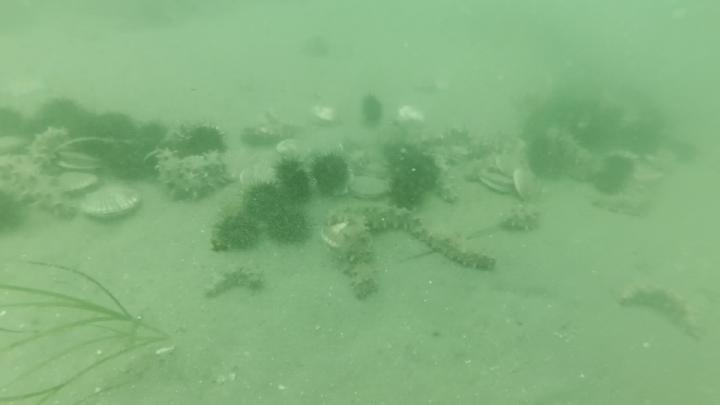echinus: (58, 109, 137, 167), (381, 140, 441, 210), (547, 123, 605, 181), (53, 129, 124, 174), (523, 131, 575, 183), (209, 207, 264, 255), (617, 113, 667, 159), (240, 178, 288, 223), (271, 154, 314, 203), (264, 204, 313, 247), (309, 151, 353, 198), (175, 122, 228, 160), (37, 95, 86, 133), (91, 109, 139, 146), (1, 182, 31, 239), (133, 118, 171, 153), (357, 92, 387, 131), (298, 32, 334, 62), (605, 153, 636, 180), (596, 171, 625, 196)
holothurian: (616, 279, 706, 341), (2, 153, 80, 221), (410, 217, 498, 274), (149, 145, 232, 204), (332, 211, 381, 302), (440, 122, 527, 160), (240, 109, 303, 150), (406, 121, 480, 155), (25, 124, 75, 174), (201, 263, 266, 301), (361, 204, 425, 238), (588, 190, 651, 219), (431, 151, 463, 207), (497, 206, 544, 236)
scallop: (443, 122, 528, 160), (80, 181, 147, 225), (489, 157, 544, 204), (240, 109, 302, 150), (491, 135, 531, 181), (475, 162, 524, 198), (237, 155, 282, 194), (510, 165, 549, 207), (345, 173, 392, 203), (54, 169, 101, 199), (318, 218, 351, 245), (273, 137, 307, 163)
starfish: (1, 133, 32, 160)
